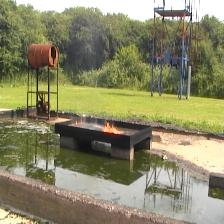fire: (103, 122, 124, 135)
